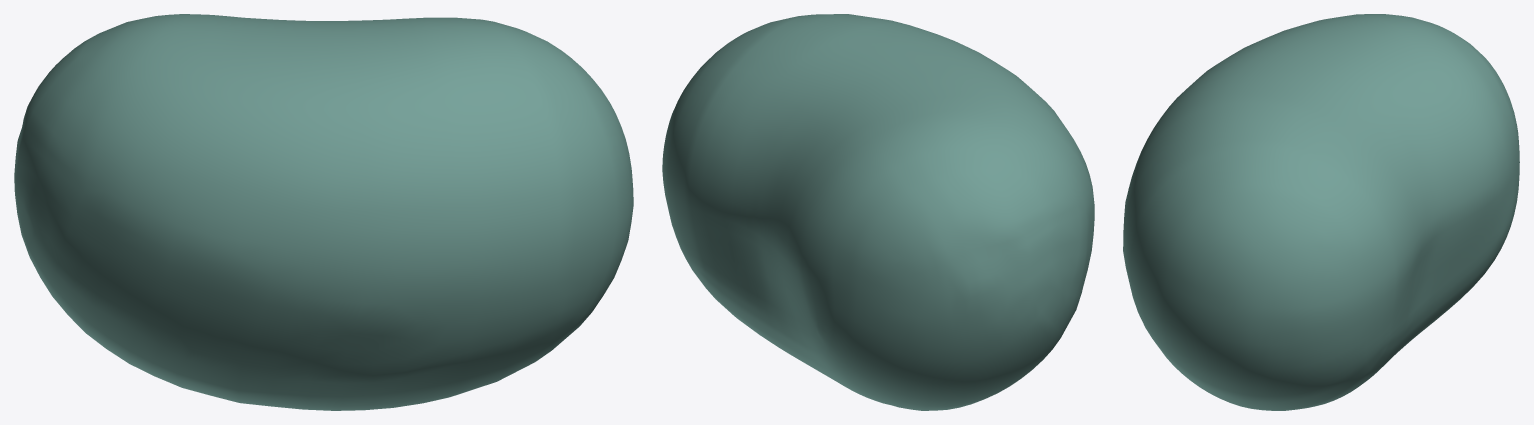
Rendered from jellyBeanLightBlue.fbx.
3 renders of one model, left to right at view 1: azimuth 30°, elevation 25°; view 2: azimuth 150°, elevation 25°; view 3: azimuth 270°, elevation 25°, orthographic. The views are drawn at different scales.
Parts seen in each view (by area): view 1: pasted__pasted__model2; view 2: pasted__pasted__model2; view 3: pasted__pasted__model2.
Boxes of the visible parts, x1,y1,x2,y2 form: pasted__pasted__model2: (14, 14, 633, 410); pasted__pasted__model2: (662, 14, 1094, 410); pasted__pasted__model2: (1123, 14, 1519, 410).
Size of the model in its own units: 2.02 by 1.37 by 1.64.
